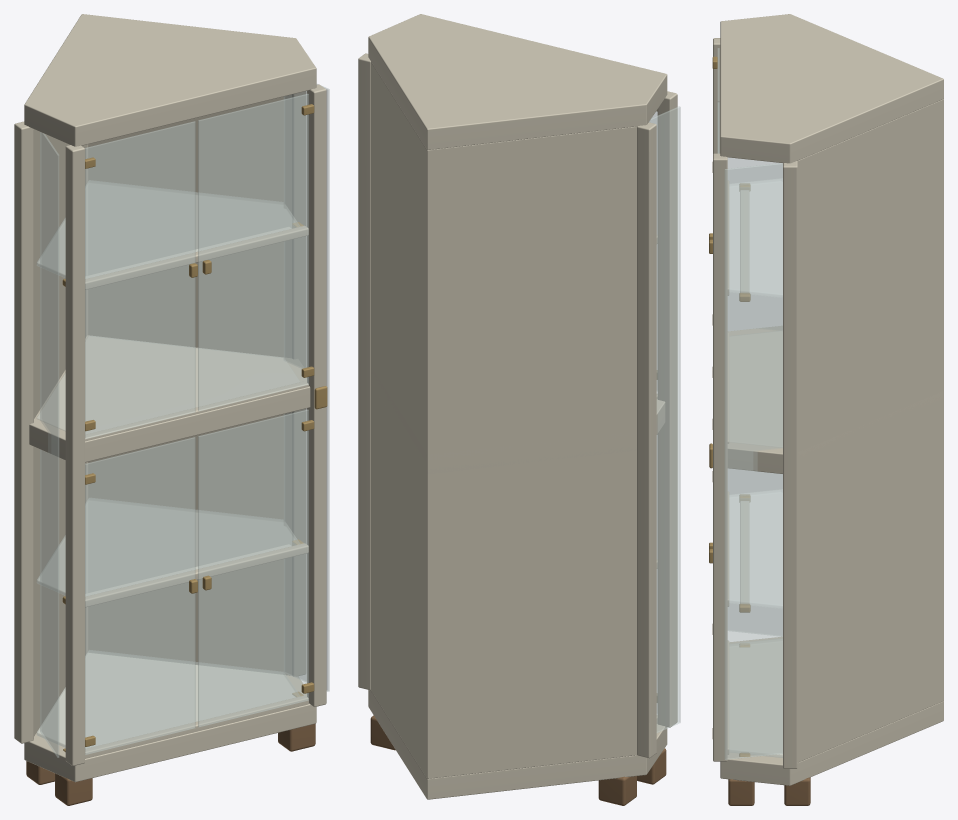
Rendered from display-case.glb.
3 renders of one model, left to right at view 1: azimuth 30°, elevation 25°; view 2: azimuth 150°, elevation 25°; view 3: azimuth 270°, elevation 25°, orthographic. The views are drawn at different scales.
Parts seen in each view (by area): view 1: Case_PaintedTimber, Case_DoorGlass.001, Case_DoorGlass.003, Case_DoorGlass.002, Case_DoorGlass, Case_Corner_GlassShelf.001, Case_Corner_GlassShelf.003, Case_Corner_GlassShelf, Case_AngledSideGlass.001, Case_AngledSideGlass, Case_Oak, Case_Brass (+1 smaller); view 2: Case_PaintedTimber, Case_AngledSideGlass, Case_Oak; view 3: Case_PaintedTimber, Case_AngledSideGlass.001, Case_Corner_GlassShelf, Case_Corner_GlassShelf.001, Case_Corner_GlassShelf.003, Case_AngledSideGlass, Case_Oak, Case_Brass.
Part boxes in pixels (x1,y1,x2,y2): Case_PaintedTimber: (14, 14, 326, 782); Case_DoorGlass.001: (198, 409, 308, 727); Case_DoorGlass.003: (198, 93, 308, 411); Case_DoorGlass.002: (85, 121, 195, 438); Case_DoorGlass: (85, 437, 195, 754); Case_Corner_GlassShelf.001: (36, 498, 299, 596); Case_Corner_GlassShelf.003: (36, 180, 299, 278); Case_Corner_GlassShelf: (36, 650, 299, 748); Case_AngledSideGlass.001: (283, 84, 329, 691); Case_AngledSideGlass: (40, 132, 59, 757); Case_Oak: (26, 723, 315, 805); Case_Brass: (62, 104, 327, 751); Case_PaintedTimber: (358, 14, 677, 799); Case_AngledSideGlass: (649, 106, 680, 732); Case_Oak: (370, 715, 666, 805); Case_PaintedTimber: (713, 14, 943, 785); Case_AngledSideGlass.001: (724, 163, 782, 759); Case_Corner_GlassShelf: (729, 638, 782, 757); Case_Corner_GlassShelf.001: (729, 489, 782, 608); Case_Corner_GlassShelf.003: (729, 178, 782, 297); Case_AngledSideGlass: (727, 157, 782, 636); Case_Oak: (728, 777, 810, 805); Case_Brass: (709, 56, 750, 756).
Size of the model in its own units: 0.922 by 2.11 by 0.6712.
